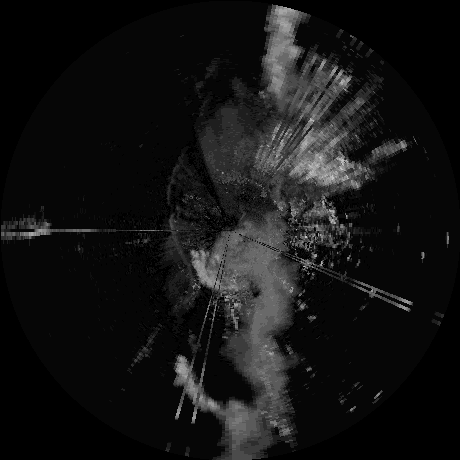frontgust: (169, 216, 199, 283), (167, 163, 178, 205)
